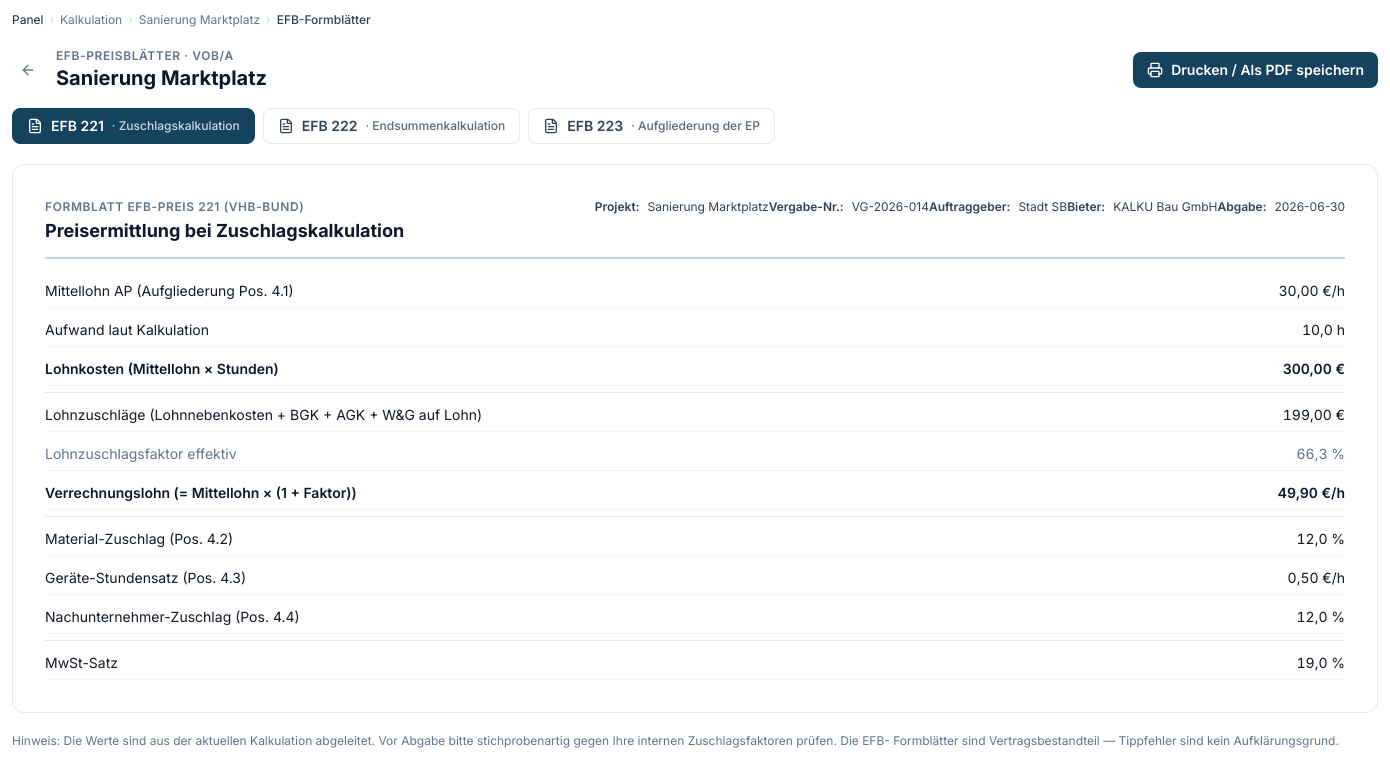
Test: ProjectEfb — tab strip › clicking EFB 223 switches to the EP-Aufgliederung table
Expected: the text "Mittellohn AP (Aufgliederung Pos. 4.1)" is shown, [45,281,294,301]
Click the button "EFB 223 · Aufgliederung der EP".
click(652, 126)  # box [528,108,775,144]
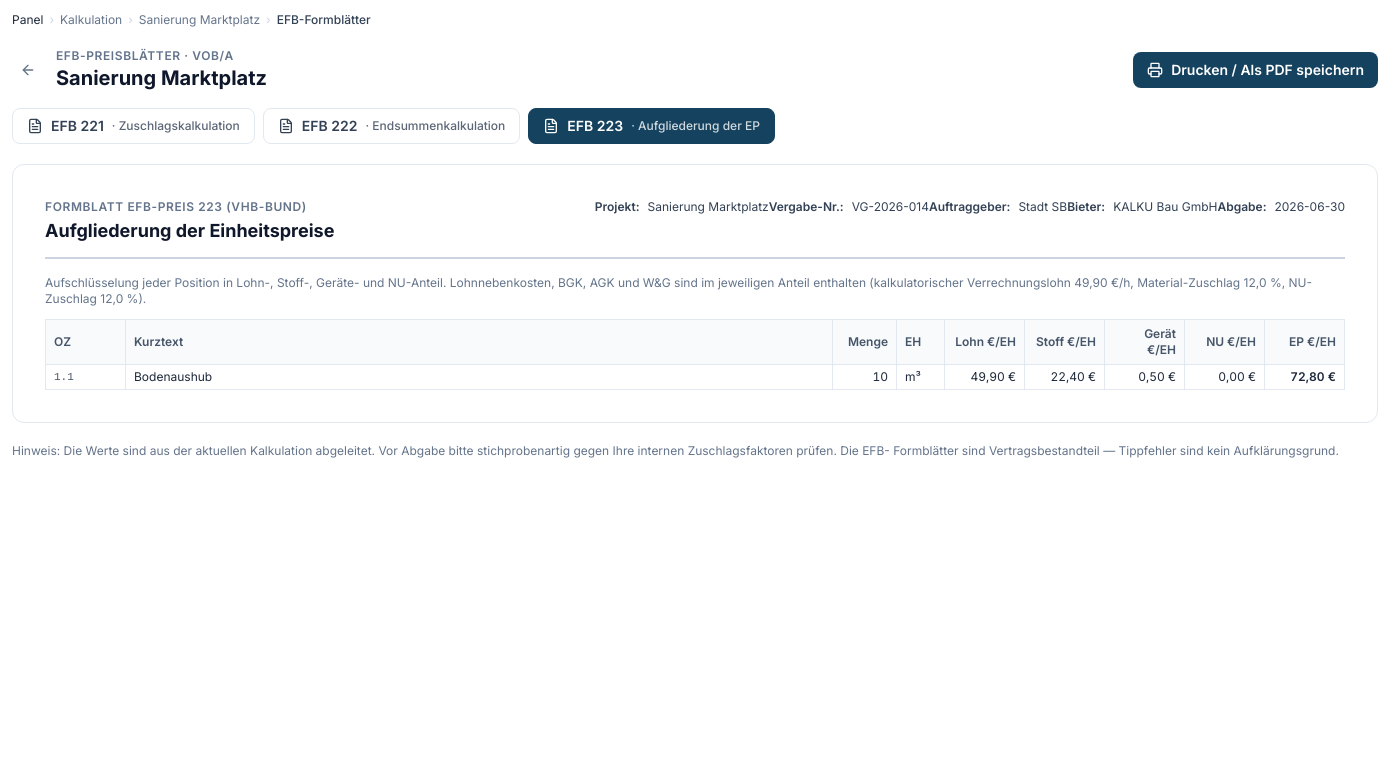
Expected: the column heading "Lohn €/EH" is shown, [944,320,1024,364]
Expected: the text "Mittellohn AP" is gone
